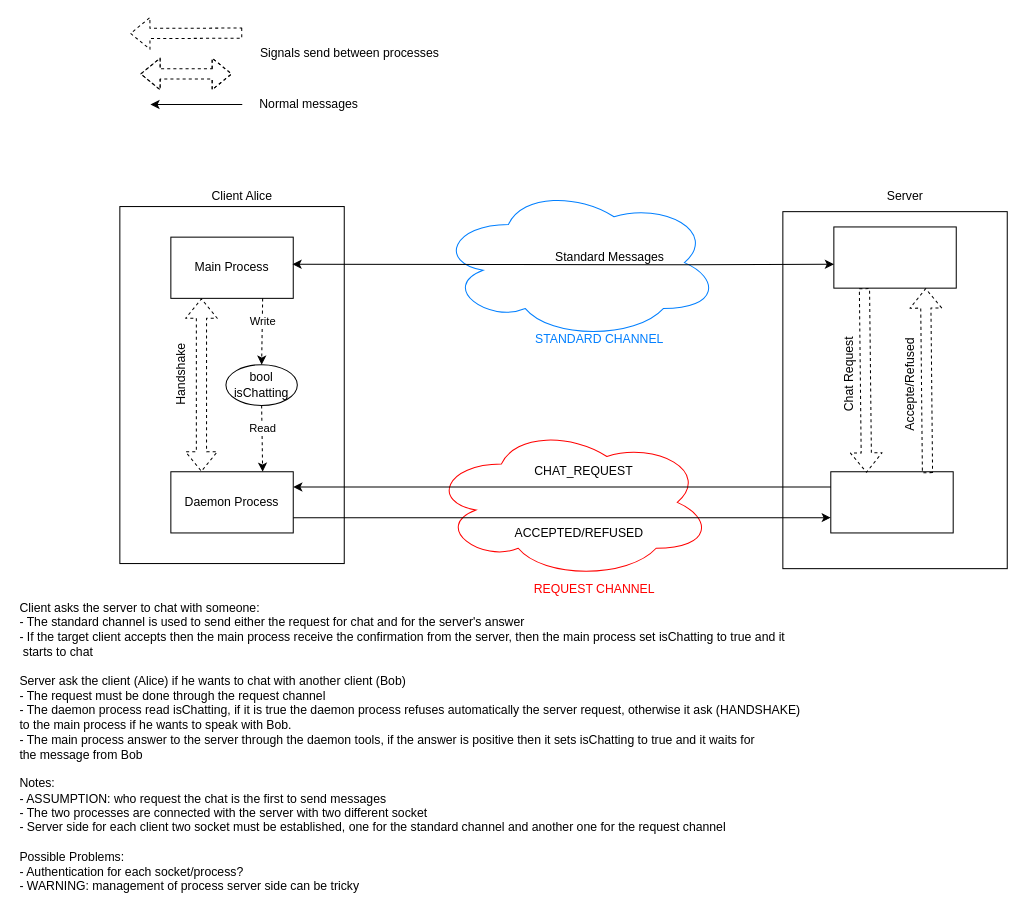
Some shapes in this 1025 by 913 pixel diagram are drawn without their labels. Here are the shapes that lost their labels. From the top down, the box of each, then its label:
(833, 226, 956, 288): Primary Process for Client "Alice"
(830, 471, 953, 533): Secondary Process for Client "Alice"
